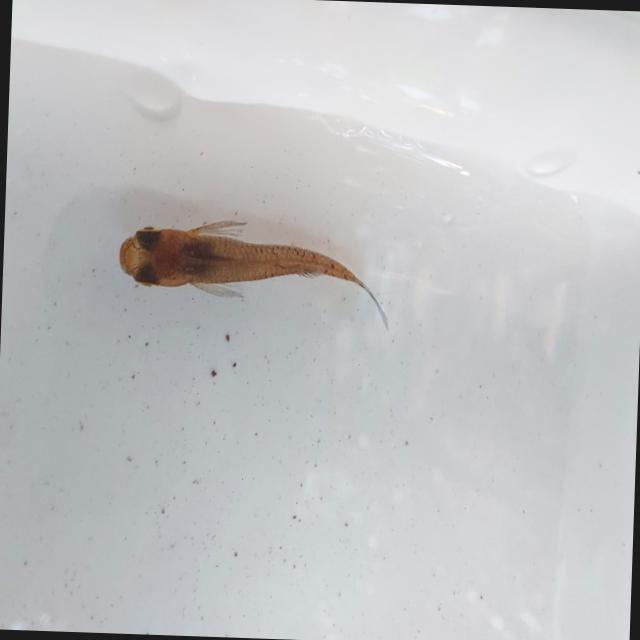Sivrisinek Baligi: (103, 189, 402, 334)
